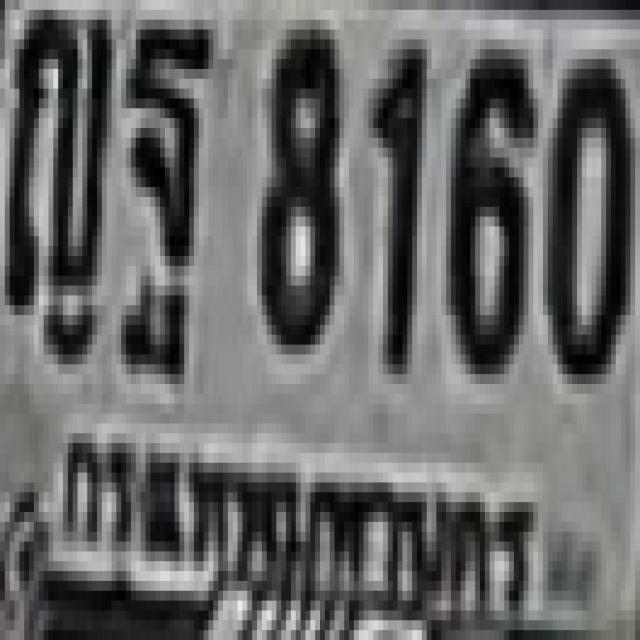0: (543, 49, 625, 374)
1: (368, 34, 422, 360)
6: (446, 39, 529, 364)
8: (257, 19, 335, 344)
A13: (3, 5, 109, 310)
A16: (121, 15, 209, 330)
BKK: (47, 416, 537, 626)
